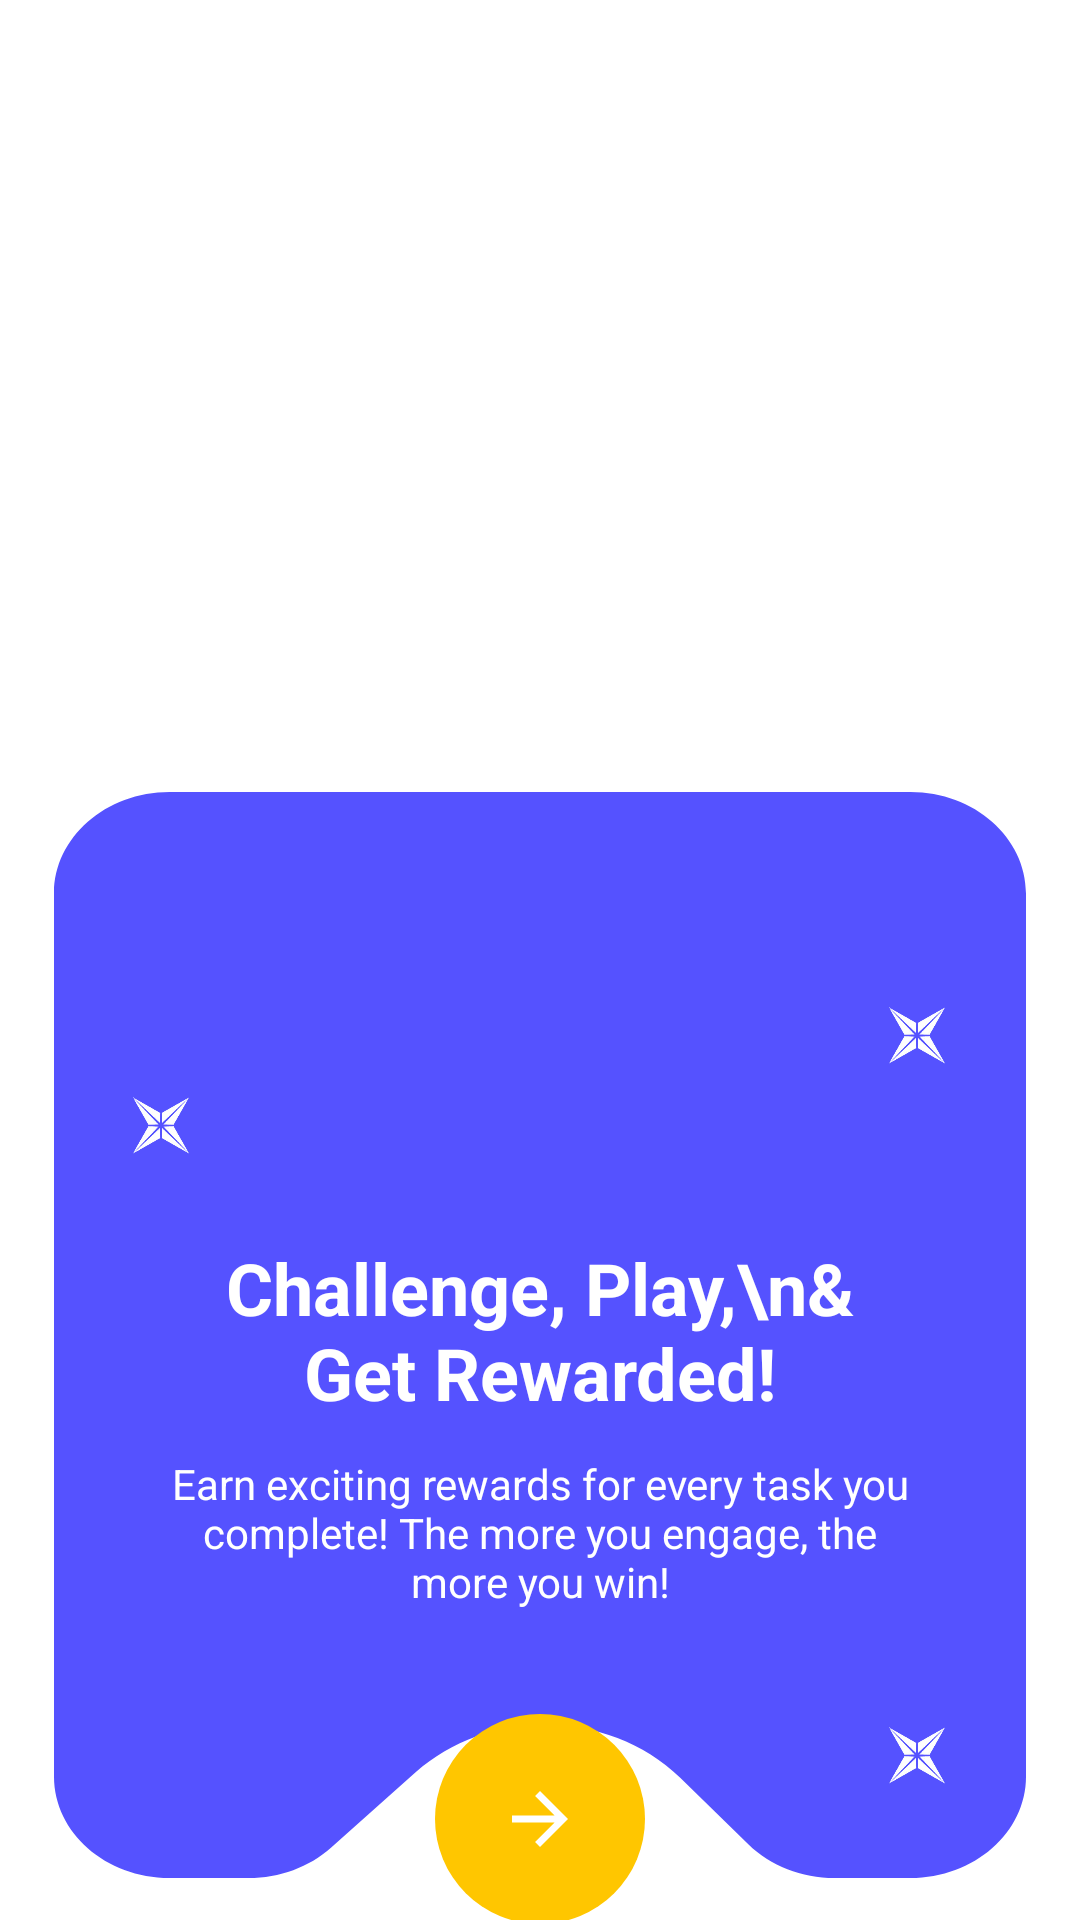

Icons on this 1080x1920 Android screen, each with the point to tap as point (x, y):
Next: point (540, 1817)
star: point (917, 1035), point (161, 1125), point (917, 1755)
